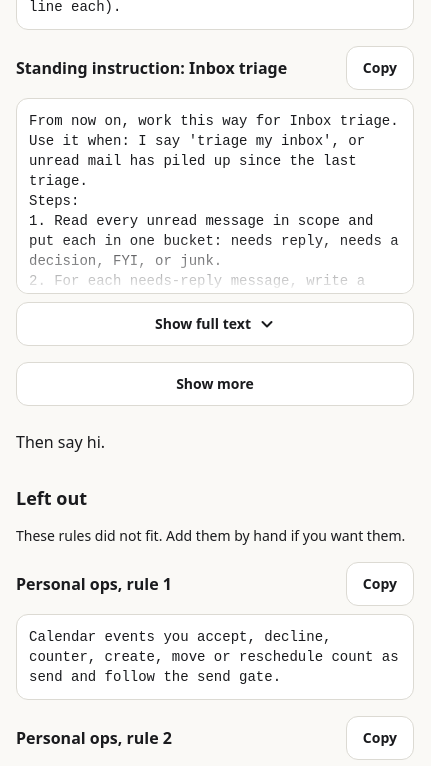
Test case: Muse June › Standing instructions shows three blocks, then Show more reveals the rest
(page scrolled)
Click the button "Show more" at (215, 384), box [16,362,414,406]
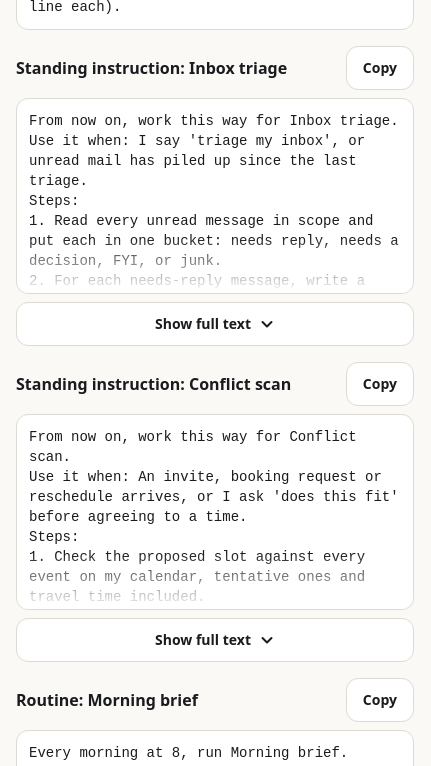
Check: the button "Show more" is gone
Check: the heading "Routine: Morning brief" is shown, box [16,689,198,711]
